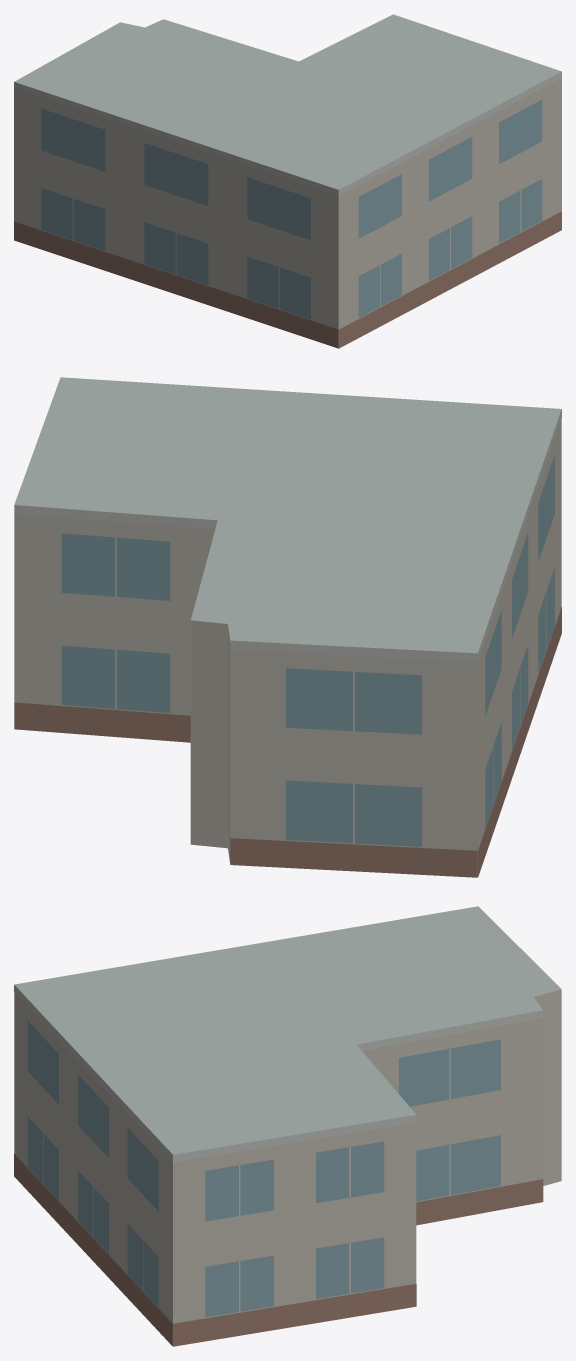
File: survey-upis-32857007.glb
The picture shows the model from 3 angles, top to bottom: view 1: azimuth 30°, elevation 25°; view 2: azimuth 150°, elevation 25°; view 3: azimuth 270°, elevation 25°; orthographic projection. The views are drawn at different scales.
Parts seen in each view (by area): view 1: survey-upis-32857007.tmp; view 2: survey-upis-32857007.tmp; view 3: survey-upis-32857007.tmp.
Part boxes in pixels (x1,y1,x2,y2): survey-upis-32857007.tmp: (14,14,561,348); survey-upis-32857007.tmp: (14,377,561,877); survey-upis-32857007.tmp: (14,906,561,1346).
Bounding box in the file's own units: 16.97 × 6.1 × 15.79.
